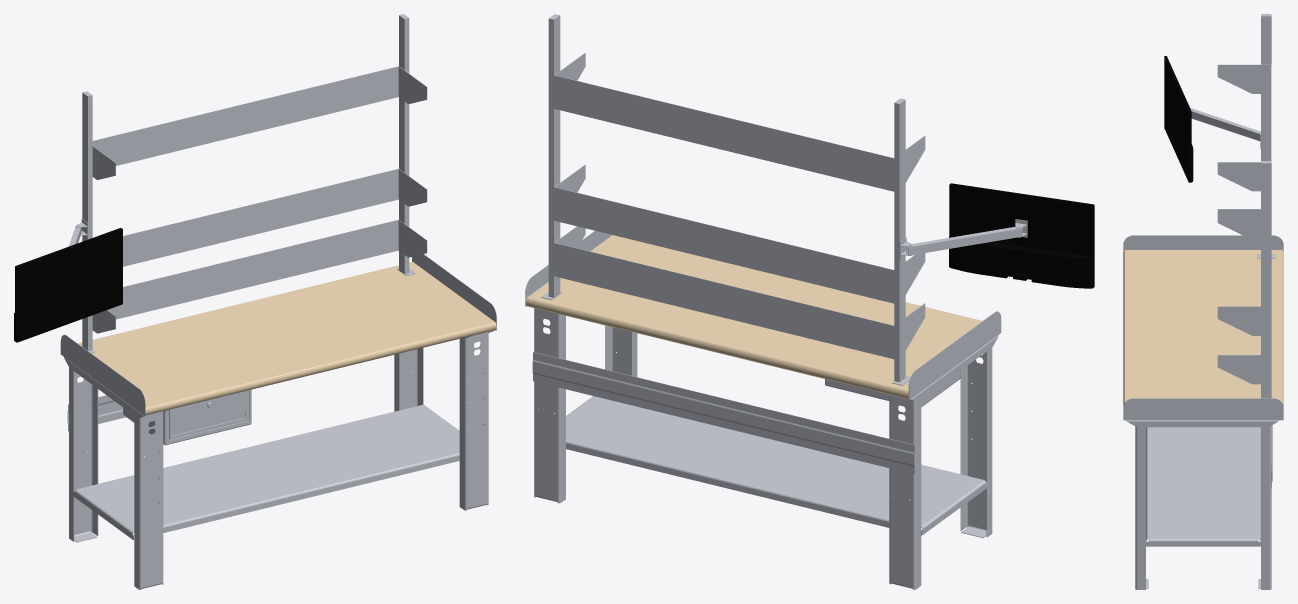
The model's file is workstation.fbx.
3 views of the same model, side by side, from view 1: azimuth 30°, elevation 25°; view 2: azimuth 150°, elevation 25°; view 3: azimuth 270°, elevation 25° (orthographic). The views are drawn at different scales.
Visible parts, largest first — view 1: rack, CompositeWoodTop, bottomshelf, leg, LG Monitor, tab_1, cajon, leg base; view 2: rack, CompositeWoodTop, bottomshelf, leg, LG Monitor, backBar, tab_1, monitorTube, cajon; view 3: CompositeWoodTop, bottomshelf, rack, tab_1, leg, LG Monitor, leg base, monitorTube.
Boxes of the visible parts, x1,y1,x2,y2 form: rack: (81,14,427,353); CompositeWoodTop: (78,261,496,415); bottomshelf: (73,404,459,540); leg: (69,332,488,589); LG Monitor: (14,228,122,342); tab_1: (60,254,496,416); cajon: (123,389,251,445); leg base: (64,330,494,418); rack: (548,14,925,385); CompositeWoodTop: (525,235,982,399); bottomshelf: (566,396,987,535); leg: (534,308,992,589); LG Monitor: (949,183,1094,288); backBar: (532,352,914,474); tab_1: (525,230,1001,400); monitorTube: (906,226,1022,255); cajon: (825,371,960,406); CompositeWoodTop: (1123,250,1283,405); bottomshelf: (1146,427,1260,546); rack: (1217,14,1275,398); tab_1: (1123,235,1283,420); leg: (1135,425,1271,589); LG Monitor: (1164,56,1193,182); leg base: (1125,420,1279,427); monitorTube: (1190,108,1260,141).
Size of the model in its own units: 239 by 220 by 76.2.
